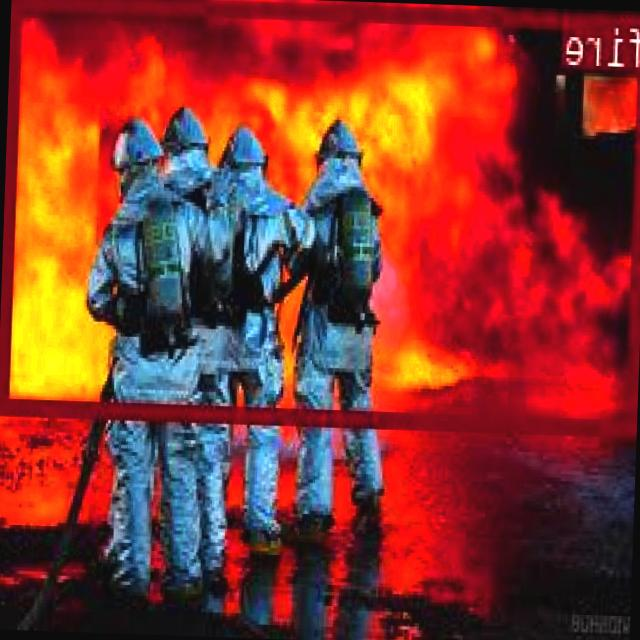fire: (2, 0, 640, 430)
